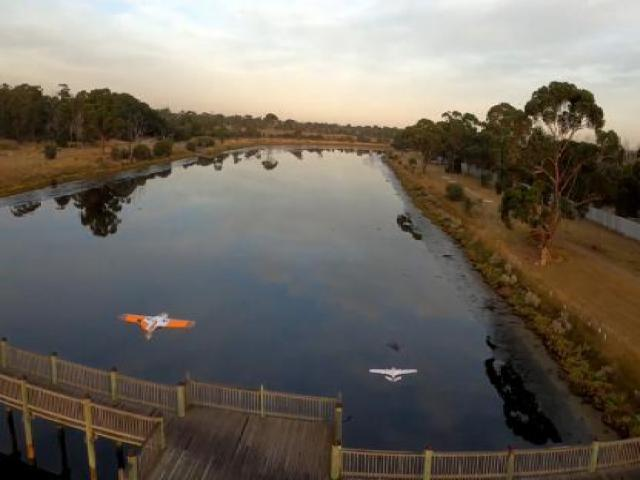uav: (120, 310, 195, 337), (368, 363, 420, 385)
